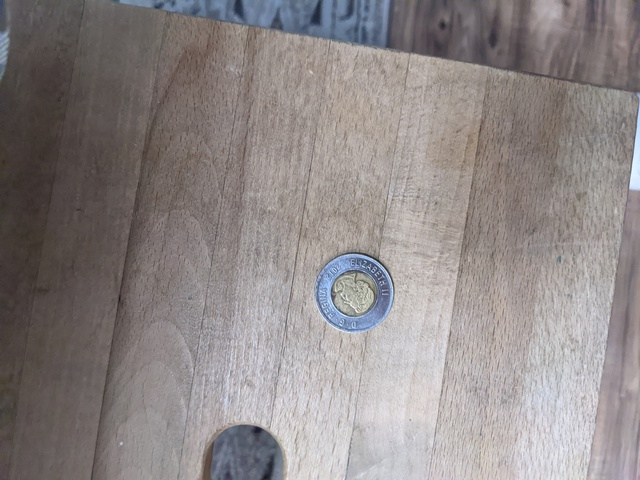twonie: (312, 250, 399, 333)
